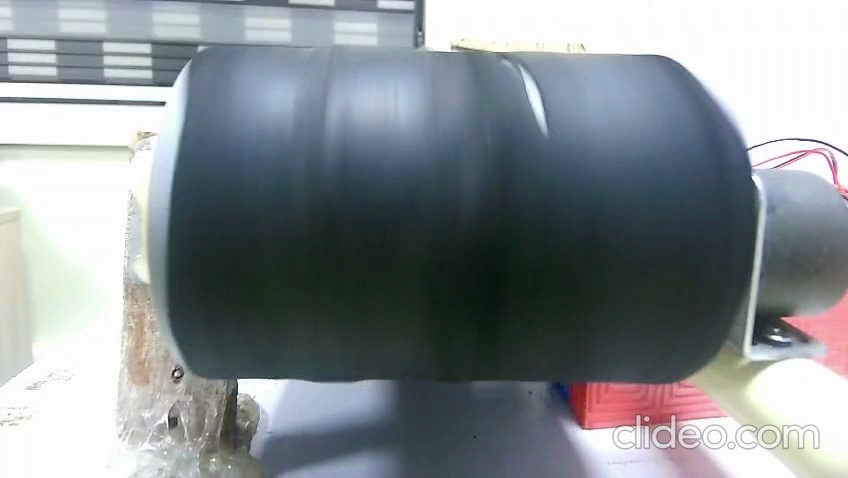tear: (511, 58, 553, 145)
